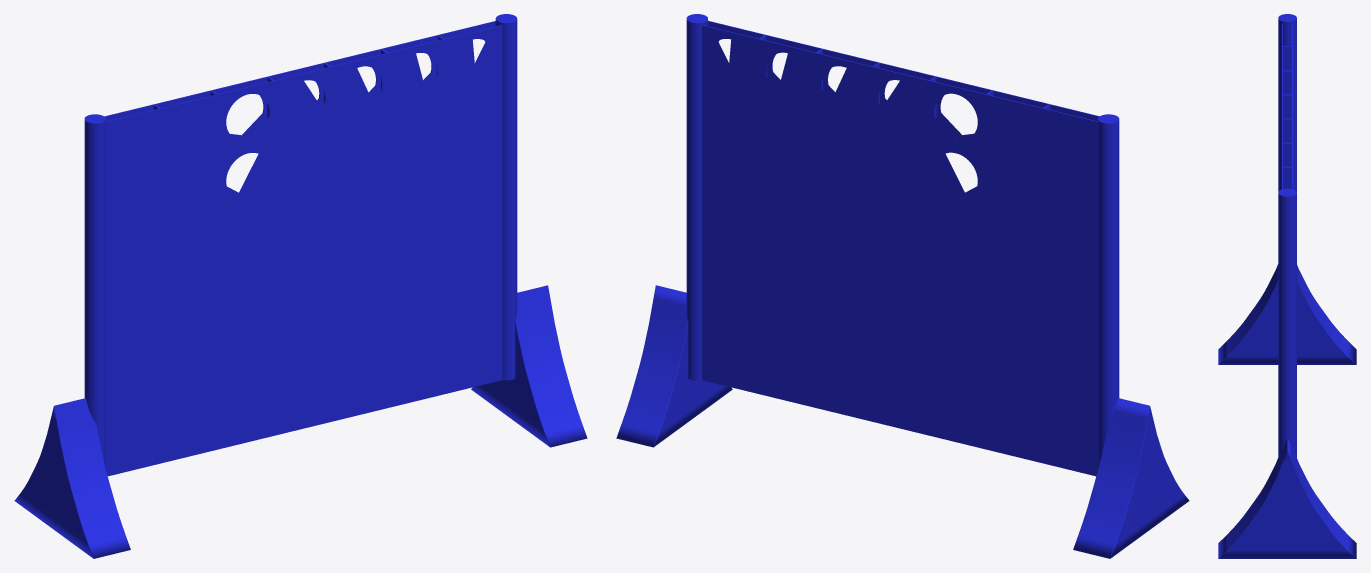
The model's file is Board.fbx.
3 views of the same model, side by side, from view 1: azimuth 30°, elevation 25°; view 2: azimuth 150°, elevation 25°; view 3: azimuth 270°, elevation 25° (orthographic). The views are drawn at different scales.
Visible parts, largest first — view 1: Board; view 2: Board; view 3: Board.
Part boxes in pixels (x1,y1,x2,y2): Board: [14, 14, 587, 558]; Board: [616, 14, 1189, 558]; Board: [1218, 14, 1356, 558].
Bounding box in the file's own units: 0.4972 × 0.3855 × 0.1384.
